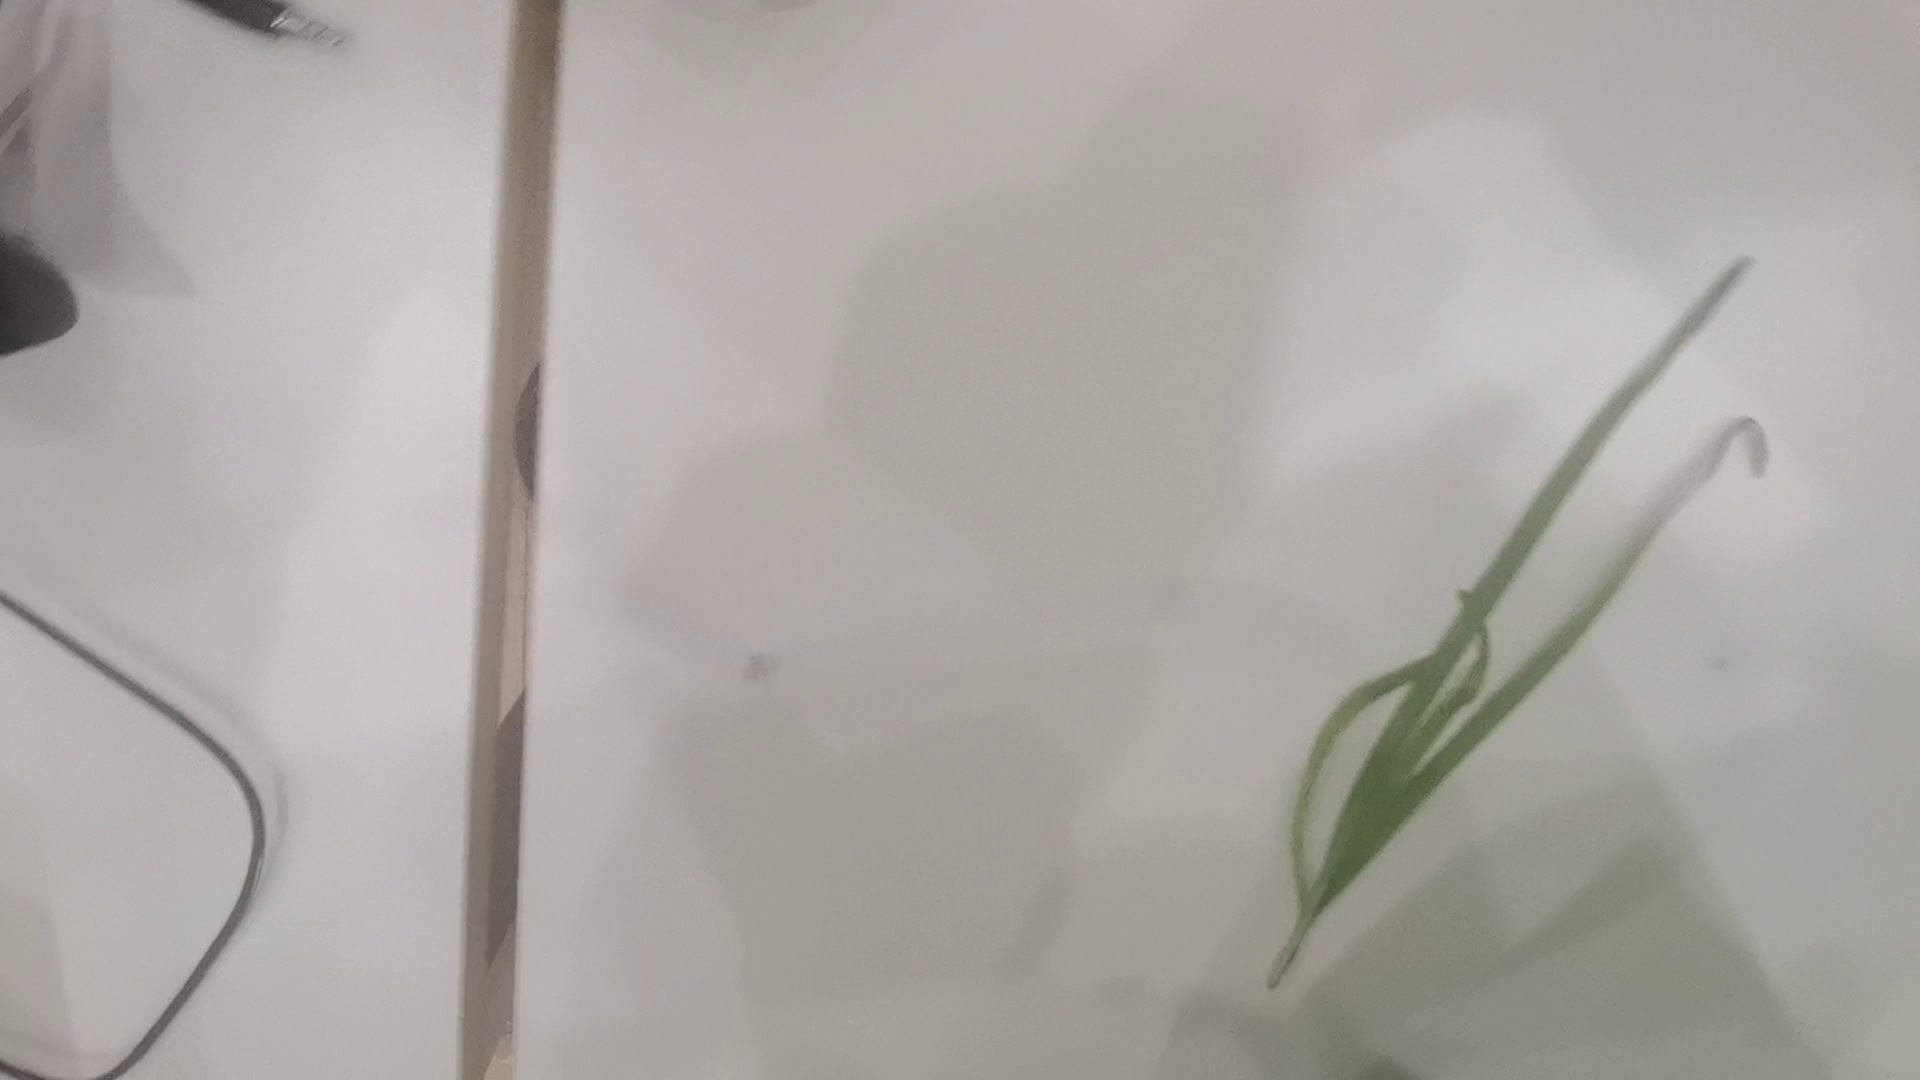chives: (1203, 252, 1801, 992)
